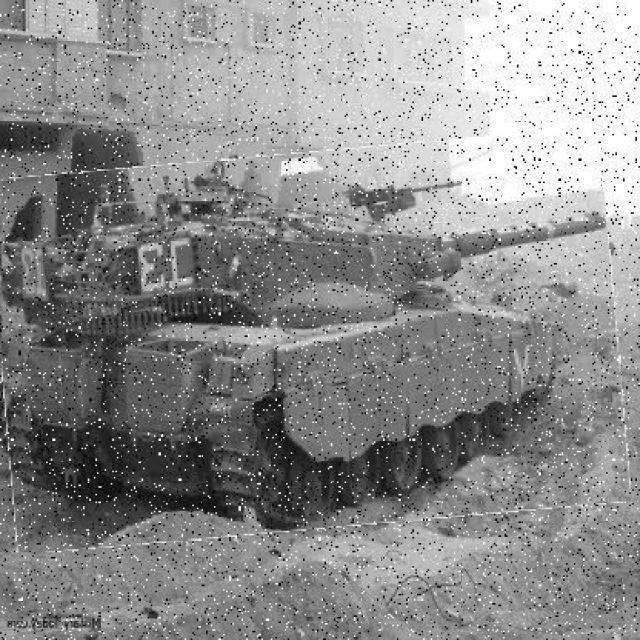Tank: (3, 141, 626, 544)
